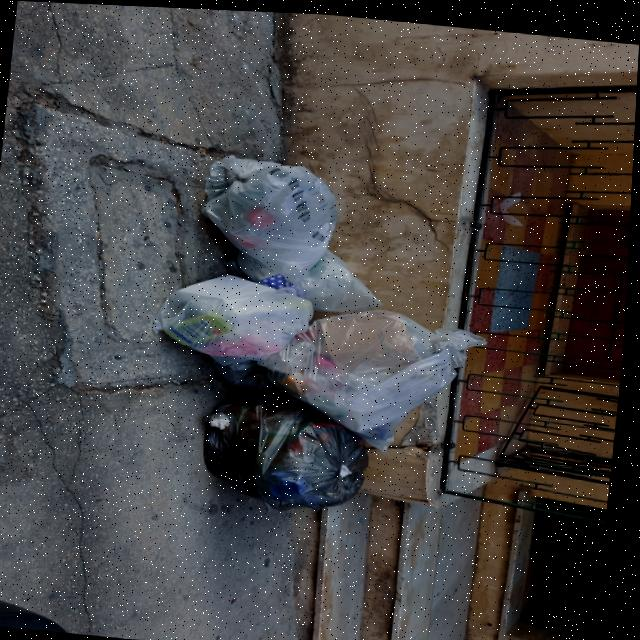Mixed Waste -Black Bag-: (198, 388, 379, 521)
Recycled Waste -Grey or Green Bag-: (264, 297, 494, 458), (189, 148, 355, 284), (153, 272, 323, 366), (219, 238, 393, 315)
